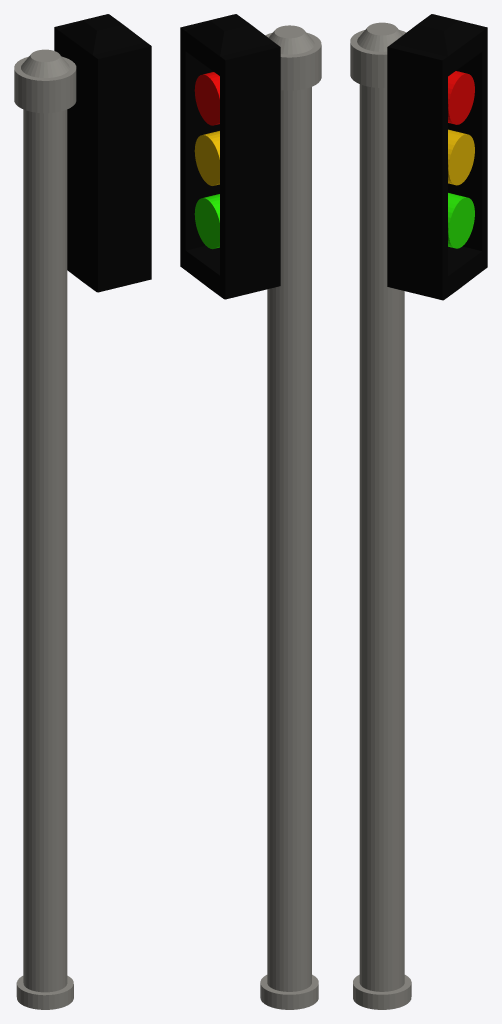
The model's file is TrafficLight.fbx.
3 renders of one model, left to right at view 1: azimuth 30°, elevation 25°; view 2: azimuth 210°, elevation 25°; view 3: azimuth 330°, elevation 25°, orthographic. The views are drawn at different scales.
Parts seen in each view (by area): view 1: TrafikLambası; view 2: TrafikLambası; view 3: TrafikLambası.
Part boxes in pixels (left/top/right/bottom): TrafikLambası: left=14, top=14, right=151, bottom=1009; TrafikLambası: left=180, top=14, right=321, bottom=1009; TrafikLambası: left=350, top=14, right=487, bottom=1009.
Size of the model in its own units: 7.23 by 60.69 by 5.01.
